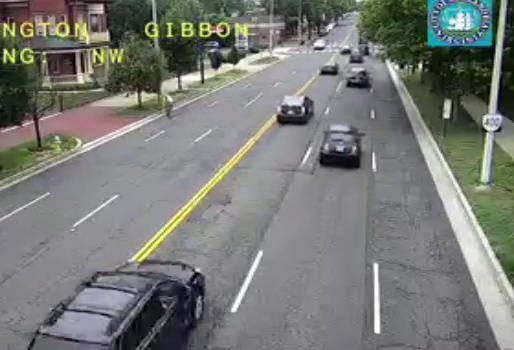car: (28, 261, 204, 350), (320, 125, 360, 161), (277, 96, 313, 123), (346, 68, 370, 87)
